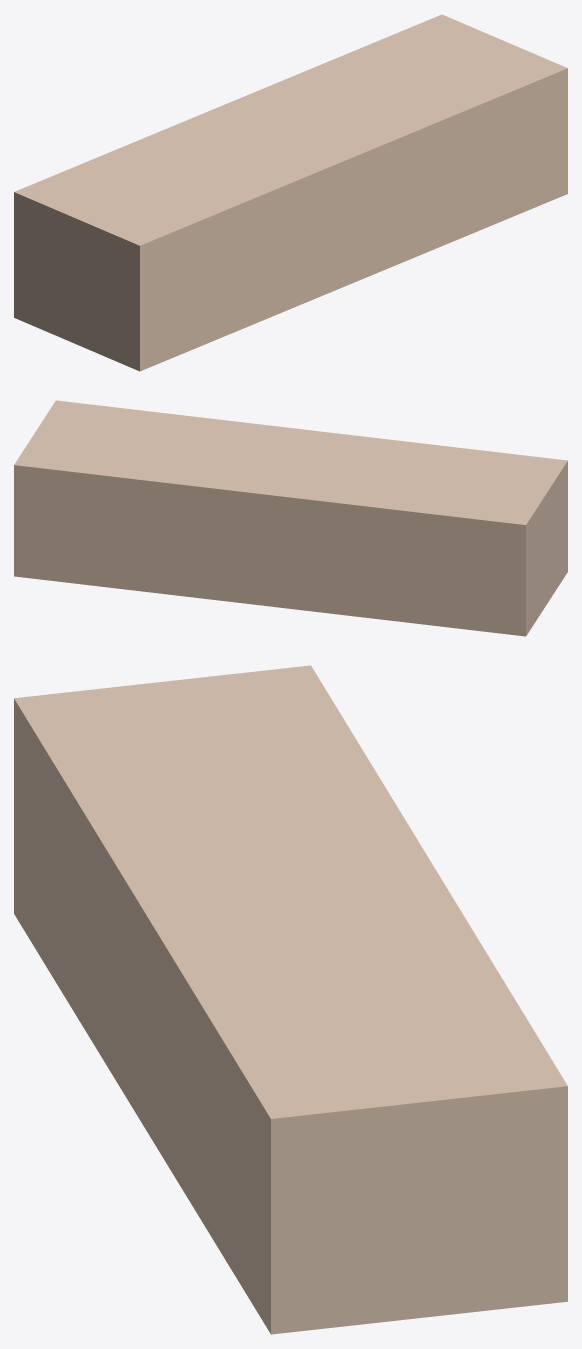
3 renders of one model, top to bottom at view 1: azimuth 30°, elevation 25°; view 2: azimuth 150°, elevation 25°; view 3: azimuth 270°, elevation 25°, orthographic. The views are drawn at different scales.
Visible parts, largest first — view 1: SM_ec45e679059b24ef6478; view 2: SM_ec45e679059b24ef6478; view 3: SM_ec45e679059b24ef6478.
Part boxes in pixels (bbox=[...]): SM_ec45e679059b24ef6478: bbox=[14, 14, 567, 371]; SM_ec45e679059b24ef6478: bbox=[14, 400, 567, 636]; SM_ec45e679059b24ef6478: bbox=[14, 665, 567, 1334].
Size of the model in its own units: 27.08 by 13.98 by 6.
